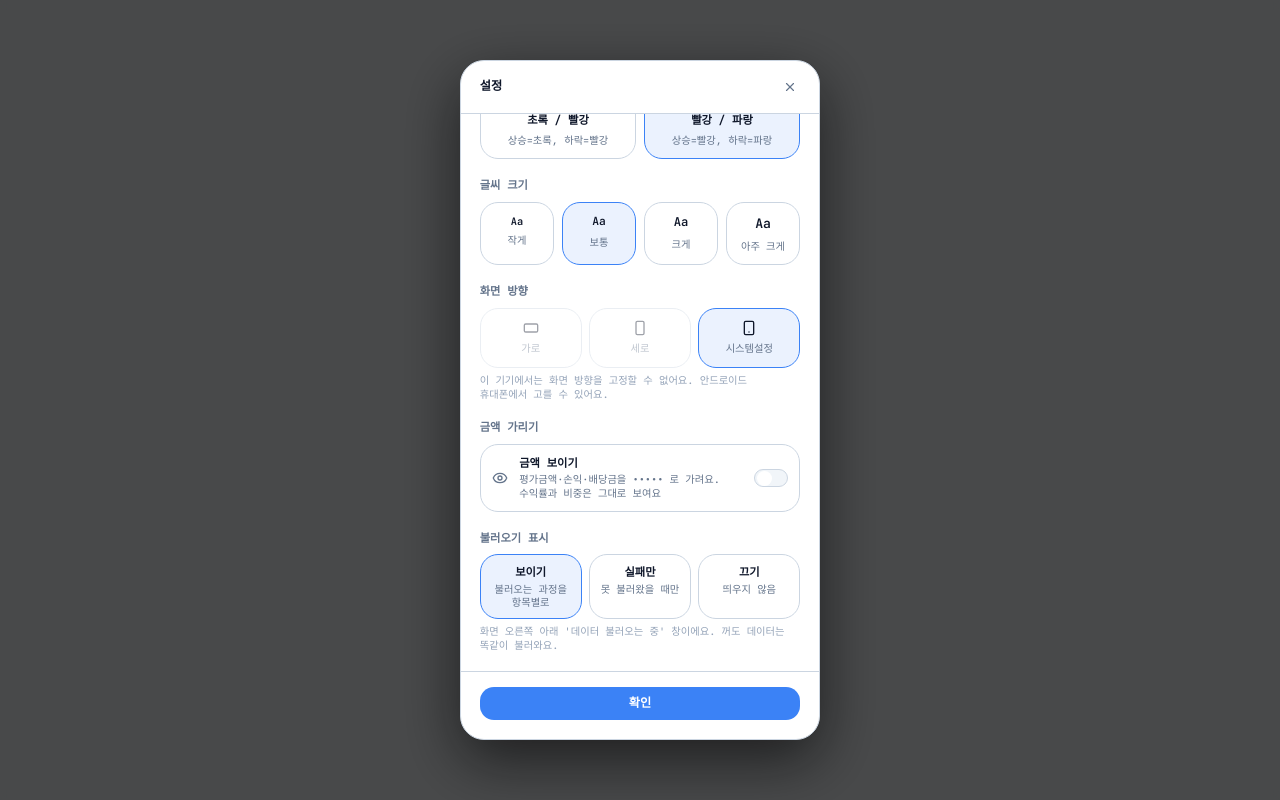
Test: 설정 — 불러오기 표시 › 세 가지 중 고를 수 있고, 고른 값이 저장된다
(page scrolled)
Expected: the element named "불러오기 표시" is shown, [480,554,800,619]
What coordinates should you click on to do the following:
click the radio button labelled "실패만 못 불러왔을 때만"
I would click on:
 (640, 587)
Its box is [589,554,691,619].
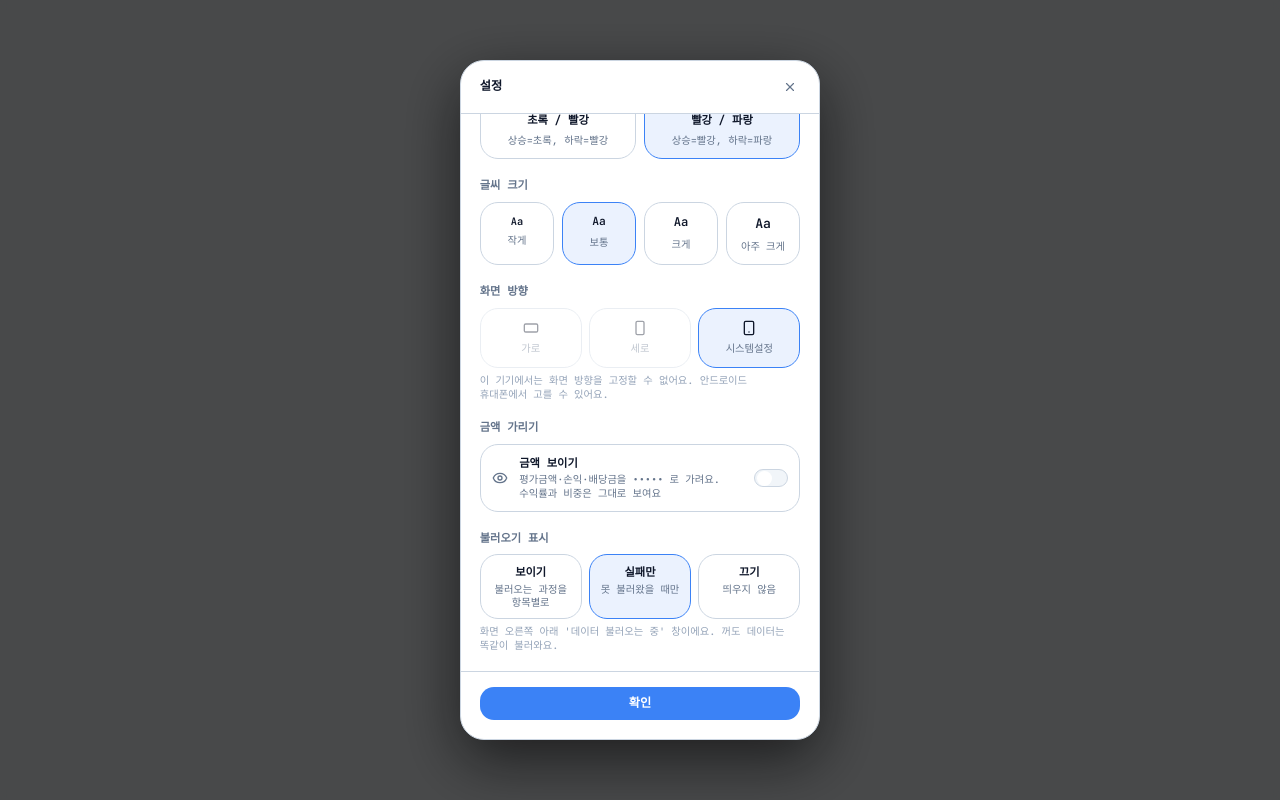
Expected: the text "실패만" is shown, [624,565,656,581]
Now the radio button labelled "실패만 못 불러왔을 때만" is checked, box [589,554,691,619]
